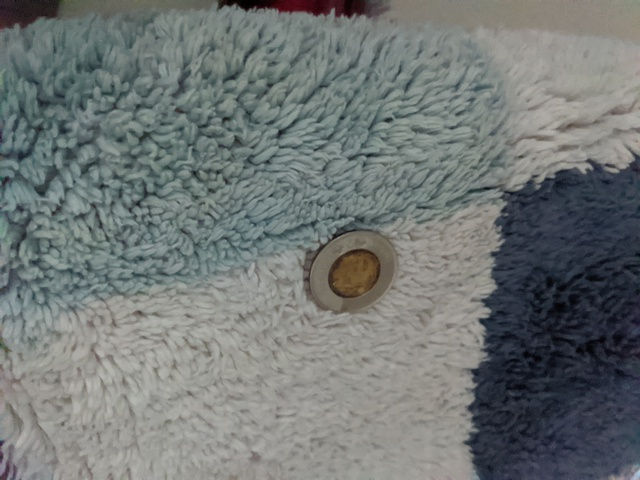twonie: (300, 217, 407, 317)
